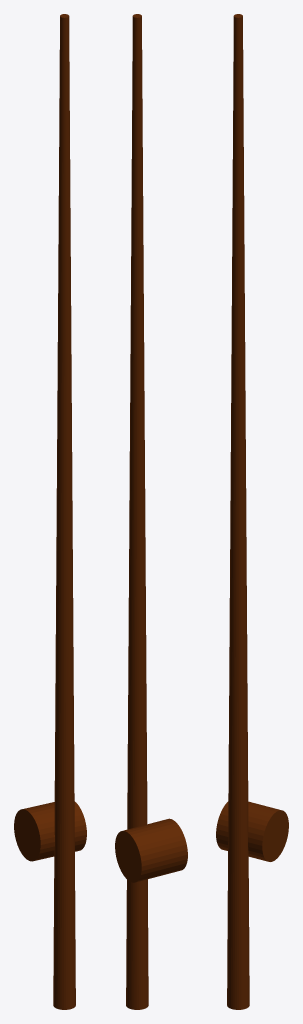
The model's file is rod.fbx.
The picture shows the model from 3 angles, left to right: view 1: azimuth 30°, elevation 25°; view 2: azimuth 210°, elevation 25°; view 3: azimuth 330°, elevation 25°; orthographic projection.
Visible parts, largest first — view 1: Cylinder; view 2: Cylinder; view 3: Cylinder.
Boxes of the visible parts, x1,y1,x2,y2 form: Cylinder: (14, 14, 86, 1009); Cylinder: (115, 14, 187, 1009); Cylinder: (216, 14, 288, 1009).
Bounding box in the file's own units: 75.95 × 1525 × 92.68.
